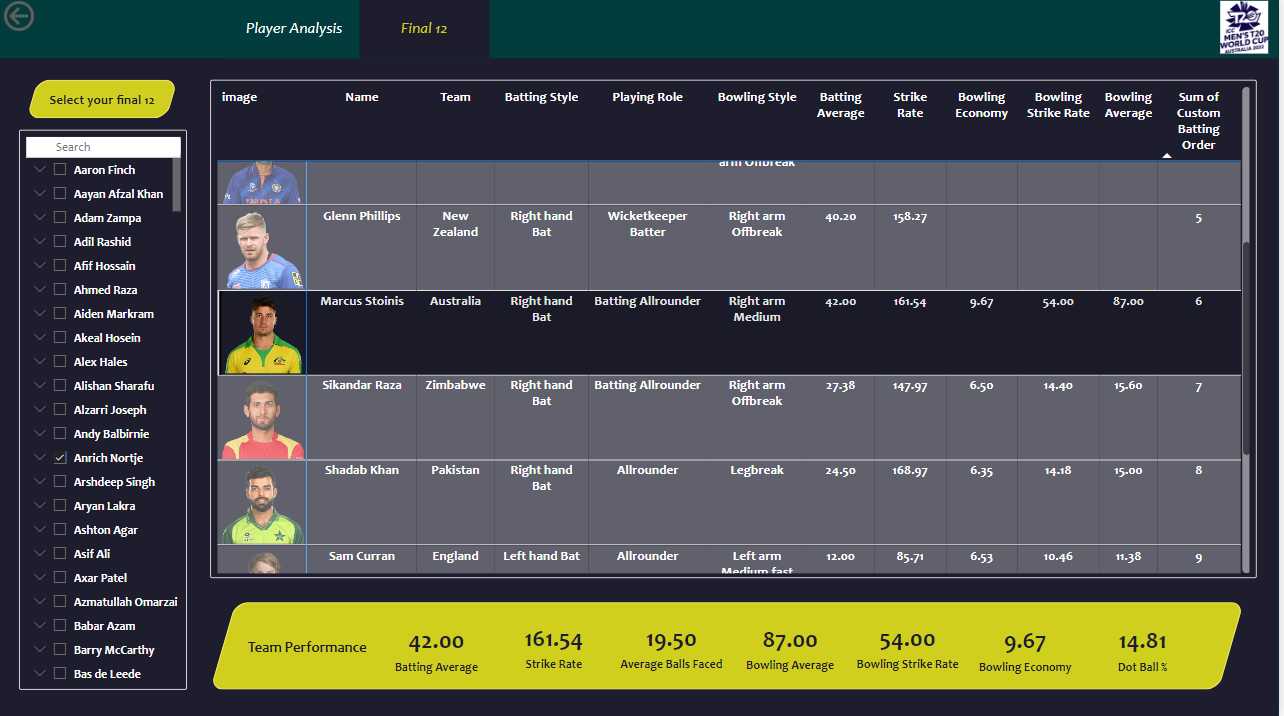

Layout of this report page (visuals, bound fields, positions):
{"tool":"powerbi","page":{"name":"All Rounder/Lower Middle Order","canvas":[1280,720],"ordinal":3},"visuals":[{"type":"tableEx","fields":{"Values":["dim_players.name","dim_players.team","dim_players.battingStyle","dim_players.bowlingStyle","Key_majors.Total Innings batted","Key_majors.Total Runs","Key_majors.Batting Average","Key_majors.Strike Rate","Key_majors.Wickets","Key_majors.Bowling Economy","Key_majors.Bowling Strike Rate","Sum(fact_bowling_summary.maiden)"]},"box":[13.8,132.5,1256.2,290],"z":0},{"type":"stackedAreaChart","fields":{"Y":["Key_majors.Batting Average"],"Category":["dim_match_summary.matchDate.Variation.Date Hierarchy.Day"]},"box":[13.3,431.8,433,132.7],"z":1000},{"type":"stackedAreaChart","fields":{"Category":["dim_match_summary.matchDate.Variation.Date Hierarchy.Day"],"Y":["Key_majors.Bowling Economy"]},"box":[451.1,431.8,433,132.7],"z":2000},{"type":"stackedAreaChart","fields":{"Category":["dim_match_summary.matchDate.Variation.Date Hierarchy.Day"],"Y":["Key_majors.Bowling Strike Rate"]},"box":[452,572.9,433,132.7],"z":3000},{"type":"stackedAreaChart","fields":{"Category":["dim_match_summary.matchDate.Variation.Date Hierarchy.Day"],"Y":["Key_majors.Strike Rate"]},"box":[13.3,572.9,433,132.7],"z":4000},{"type":"scatterChart","title":"Top Strikers with High Average","fields":{"X":["Key_majors.Batting Average"],"Y":["Key_majors.Strike Rate"],"Category":["dim_players.name"]},"box":[888.8,431.2,375,273.8],"z":5000},{"type":"slicer","fields":{"Values":["dim_match_summary.Stage"]},"box":[15.7,10.9,194.2,41],"z":6000},{"type":"shape","box":[13.8,62.5,241.2,37.5],"z":7000},{"type":"shape","box":[550,63.8,715,58.8],"z":8000},{"type":"actionButton","box":[568.8,16.2,128.8,42.5],"z":9000},{"type":"actionButton","box":[697.5,16.2,125,42.5],"z":10000},{"type":"actionButton","box":[822.5,16.2,126.2,42.5],"z":11000},{"type":"actionButton","box":[948.8,16.2,127.5,42.5],"z":12000},{"type":"actionButton","box":[1076.2,16.2,178.8,42.5],"z":13000},{"type":"shape","box":[568.8,71.2,156.2,36.2],"z":14000},{"type":"card","fields":{"Values":["Key_majors.Batting Average"]},"box":[718.8,58.8,132.5,63.8],"z":15000},{"type":"card","fields":{"Values":["Key_majors.Strike Rate"]},"box":[852.5,58.8,132.5,63.8],"z":16000},{"type":"card","fields":{"Values":["Key_majors.Bowling Economy"]},"box":[985,60,132.5,63.8],"z":17000},{"type":"card","fields":{"Values":["Key_majors.Bowling Strike Rate"]},"box":[1117.5,58.8,132.5,63.8],"z":18000},{"type":"actionButton","box":[263.8,58.8,130,62.5],"z":19000},{"type":"image","box":[499.3,0,69.9,62.7],"z":20000},{"type":"shape","box":[628.8,75,578.8,36.2],"z":20001},{"type":"actionButton","box":[393.8,60,131.2,62.5],"z":20002}]}

Visuals, with their boxes on the page's 1280x720 design canvas (x1, y1, x2, y2). These are canvas units, not pixel positions in the 1284x716 screenshot, which may show the page scaled, cropped or inside an application window:
tableEx - dim_players.name x dim_players.team: (14,132,1270,422)
stackedAreaChart - Key_majors.Batting Average x dim_match_summary.matchDate.Variation.Date Hierarchy.Day: (13,432,446,564)
stackedAreaChart - dim_match_summary.matchDate.Variation.Date Hierarchy.Day x Key_majors.Bowling Economy: (451,432,884,564)
stackedAreaChart - dim_match_summary.matchDate.Variation.Date Hierarchy.Day x Key_majors.Bowling Strike Rate: (452,573,885,706)
stackedAreaChart - dim_match_summary.matchDate.Variation.Date Hierarchy.Day x Key_majors.Strike Rate: (13,573,446,706)
"Top Strikers with High Average" scatterChart: (889,431,1264,705)
slicer - dim_match_summary.Stage: (16,11,210,52)
shape: (14,62,255,100)
shape: (550,64,1265,123)
actionButton: (569,16,698,59)
actionButton: (698,16,822,59)
actionButton: (822,16,949,59)
actionButton: (949,16,1076,59)
actionButton: (1076,16,1255,59)
shape: (569,71,725,107)
card - Key_majors.Batting Average: (719,59,851,123)
card - Key_majors.Strike Rate: (852,59,985,123)
card - Key_majors.Bowling Economy: (985,60,1118,124)
card - Key_majors.Bowling Strike Rate: (1118,59,1250,123)
actionButton: (264,59,394,121)
image: (499,0,569,63)
shape: (629,75,1208,111)
actionButton: (394,60,525,122)
